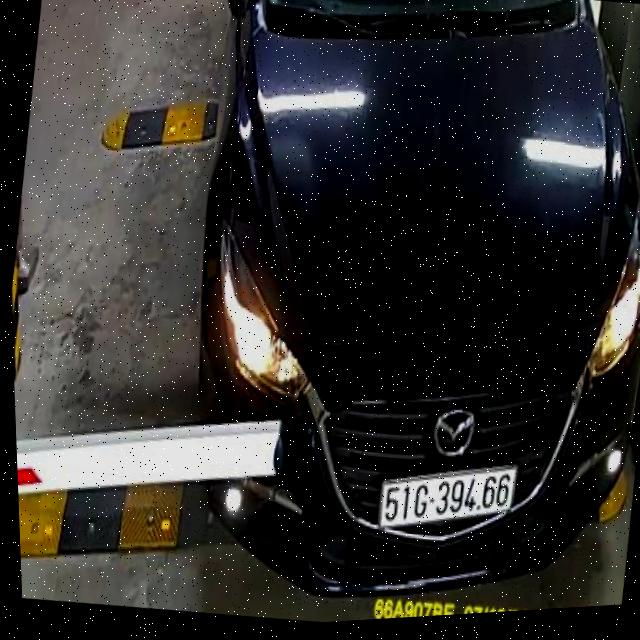car: (115, 0, 640, 633)
plate: (376, 450, 518, 549)
